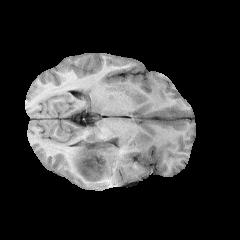glioma: (72, 141, 128, 186)
